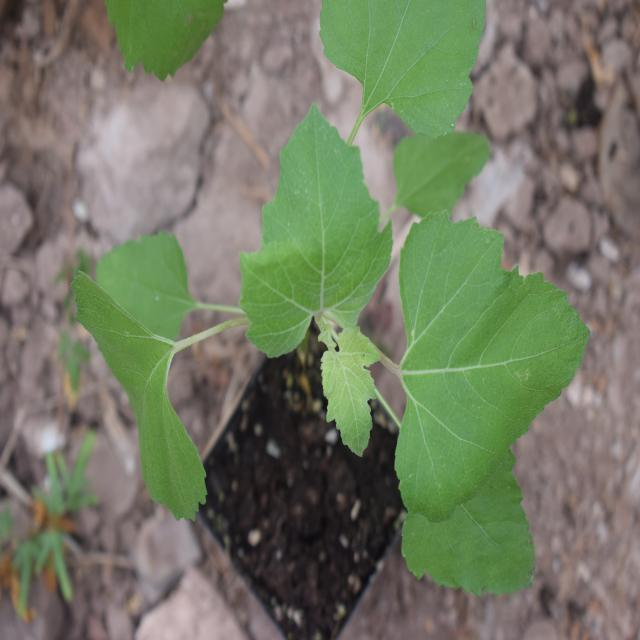cocklebur: (94, 68, 549, 539)
